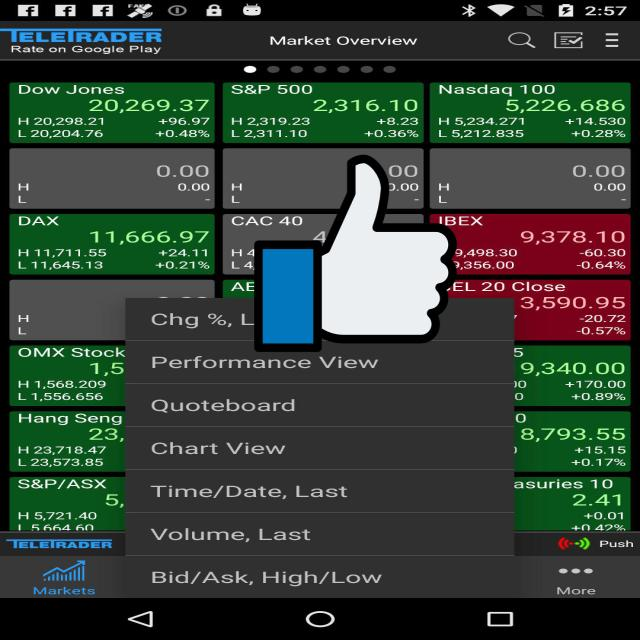privacy zuckering: (254, 150, 457, 357)
